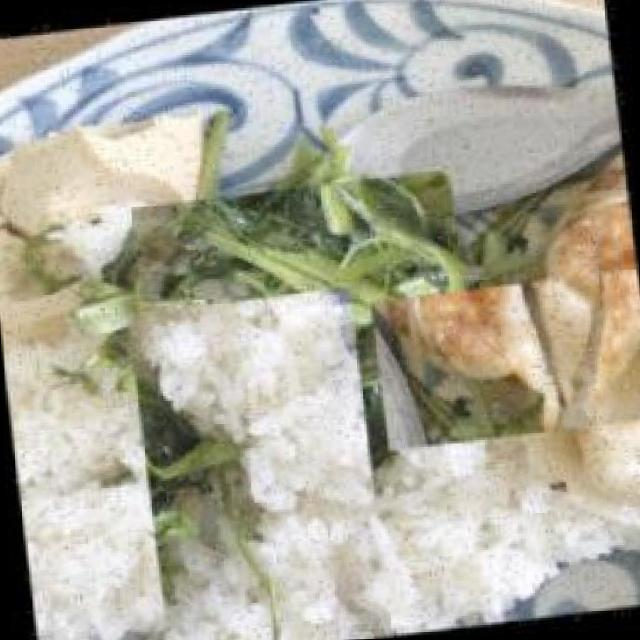fried_dumplings: (418, 206, 640, 498)
rice: (66, 337, 454, 640)
water_spinach: (130, 167, 478, 414)
